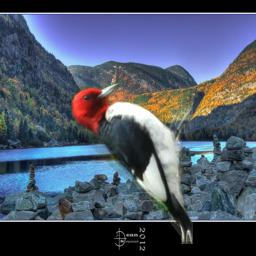Woodpecker: (71, 81, 193, 244)
